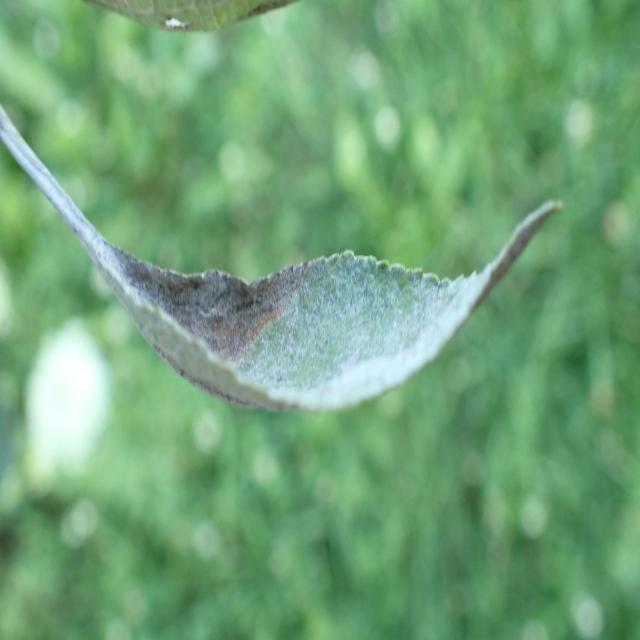Powdery_mildew: (88, 199, 575, 414)
